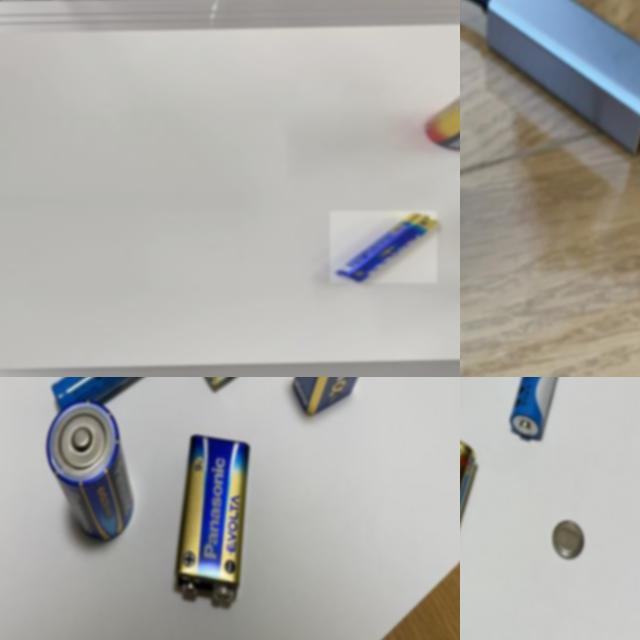9V: (174, 434, 251, 607), (291, 377, 386, 415)
